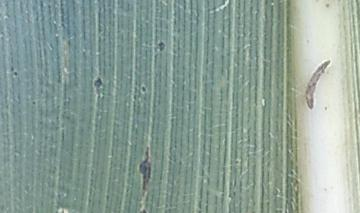tarspot: (138, 145, 151, 196), (93, 76, 102, 94), (157, 41, 166, 52), (11, 70, 19, 77), (29, 98, 37, 105), (140, 84, 146, 92), (233, 157, 239, 165), (141, 208, 147, 213)
